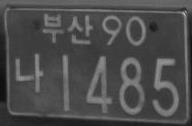0: (125, 14, 147, 47)
1: (53, 54, 79, 112)
4: (85, 55, 113, 113)
5: (151, 57, 179, 118)
8: (118, 56, 145, 115)
9: (101, 14, 122, 46)
나: (14, 52, 43, 92)
부산_O: (43, 12, 93, 45)
